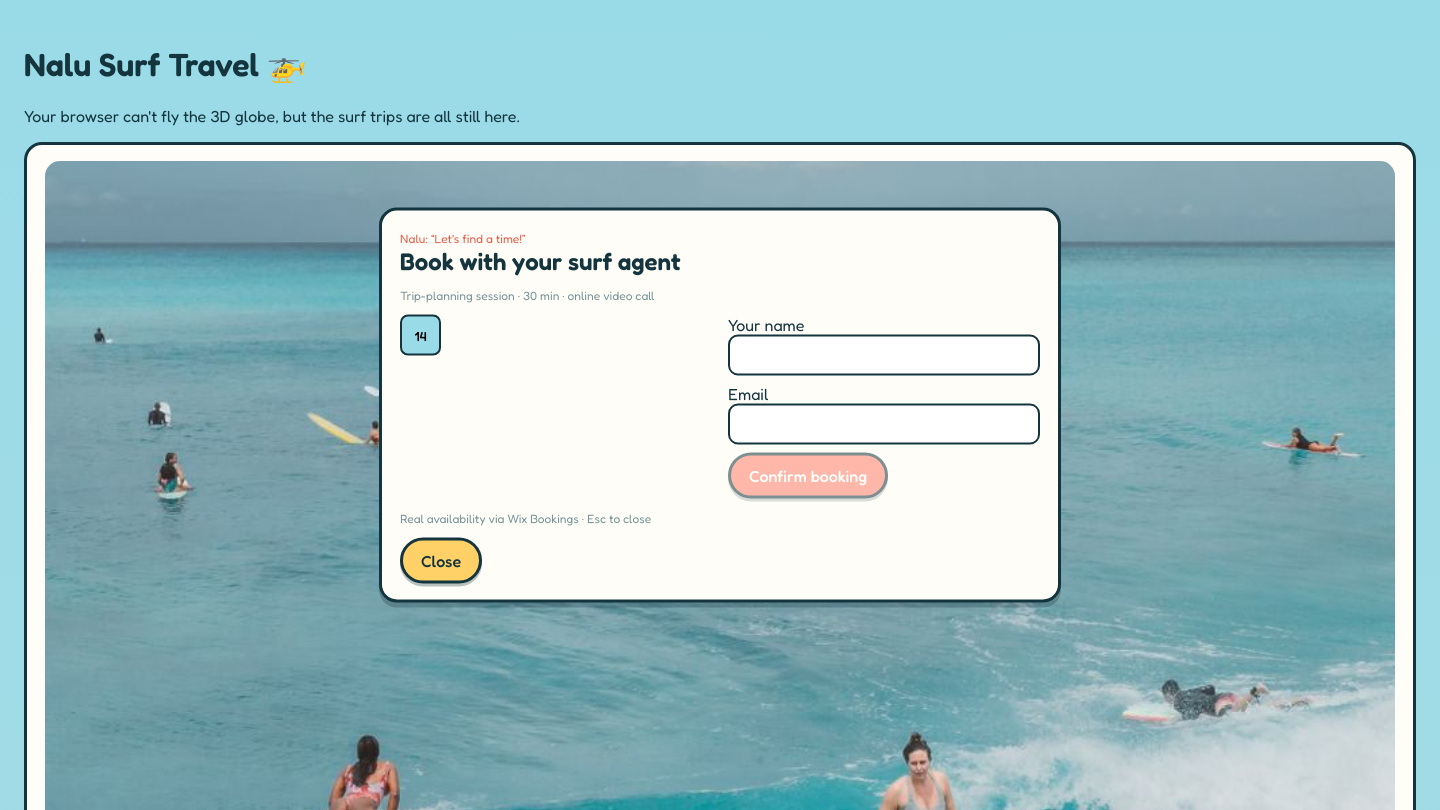
Scenario: happy path booking lands on the confirmation card, not a stuck calendar
Click the button "14" at (421, 335), box x1=400 y1=314 x2=441 y2=356
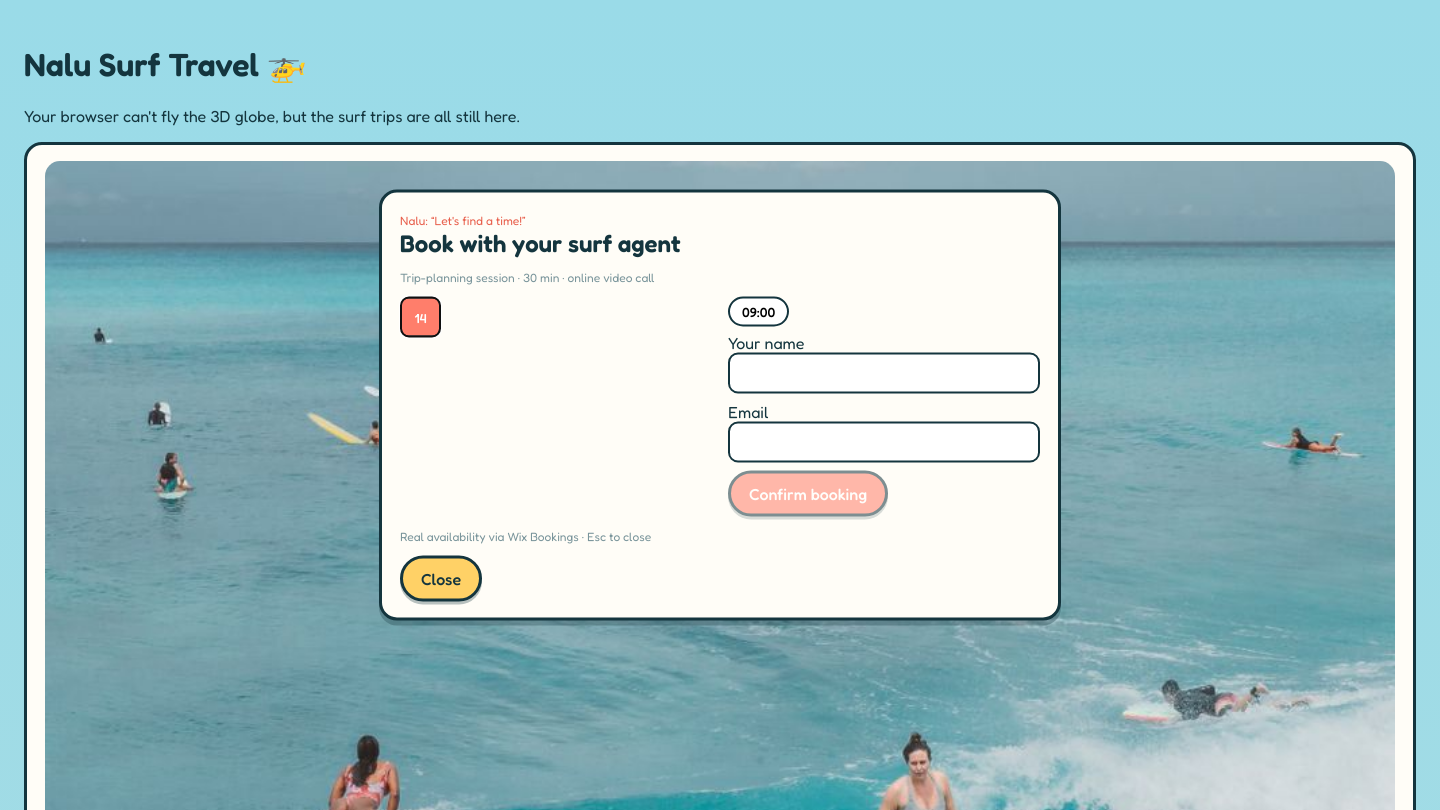
Click the button "09:00" at (759, 312), box x1=728 y1=296 x2=789 y2=326
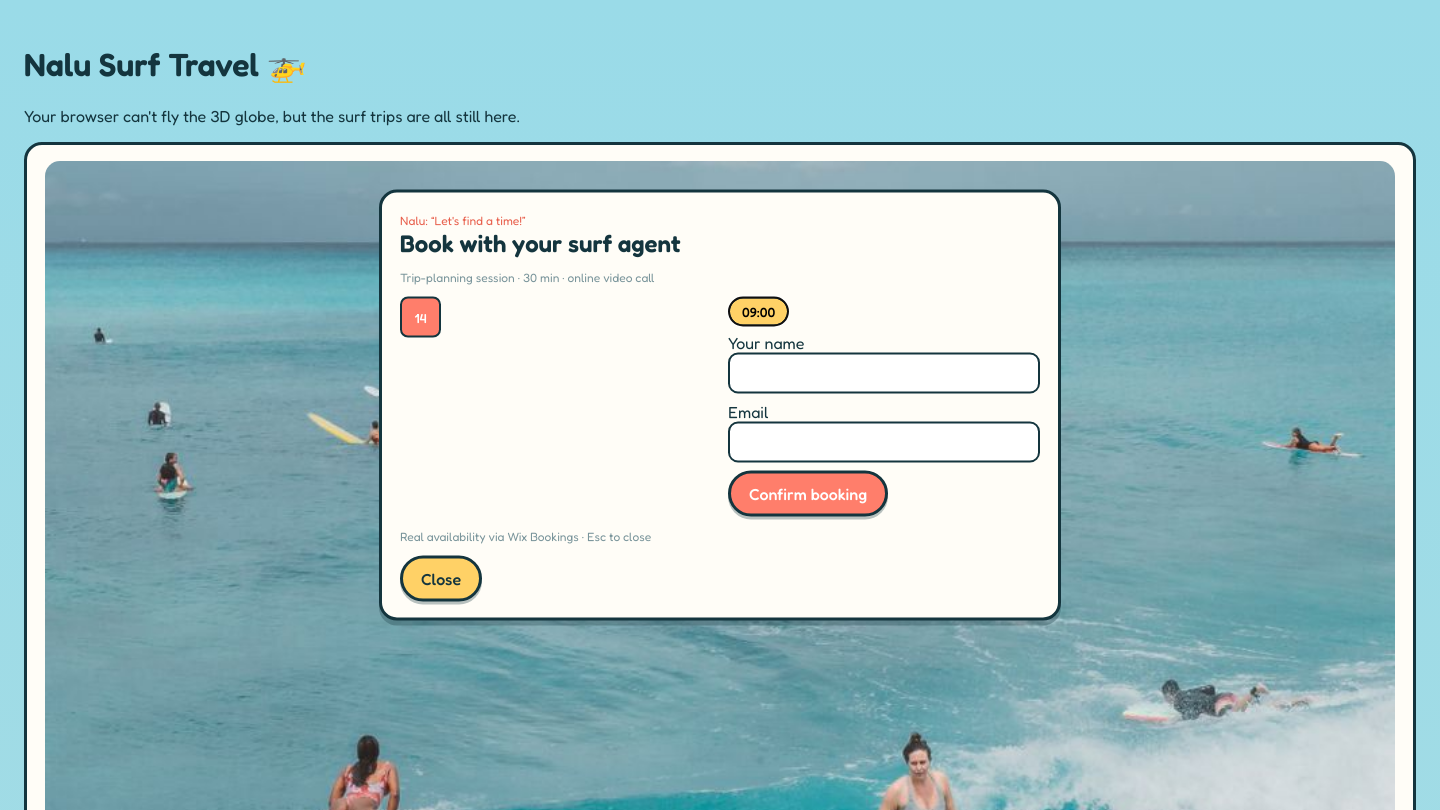
Type "Kai" into the field labelled "Your name" at (884, 373), box x1=728 y1=352 x2=1040 y2=394
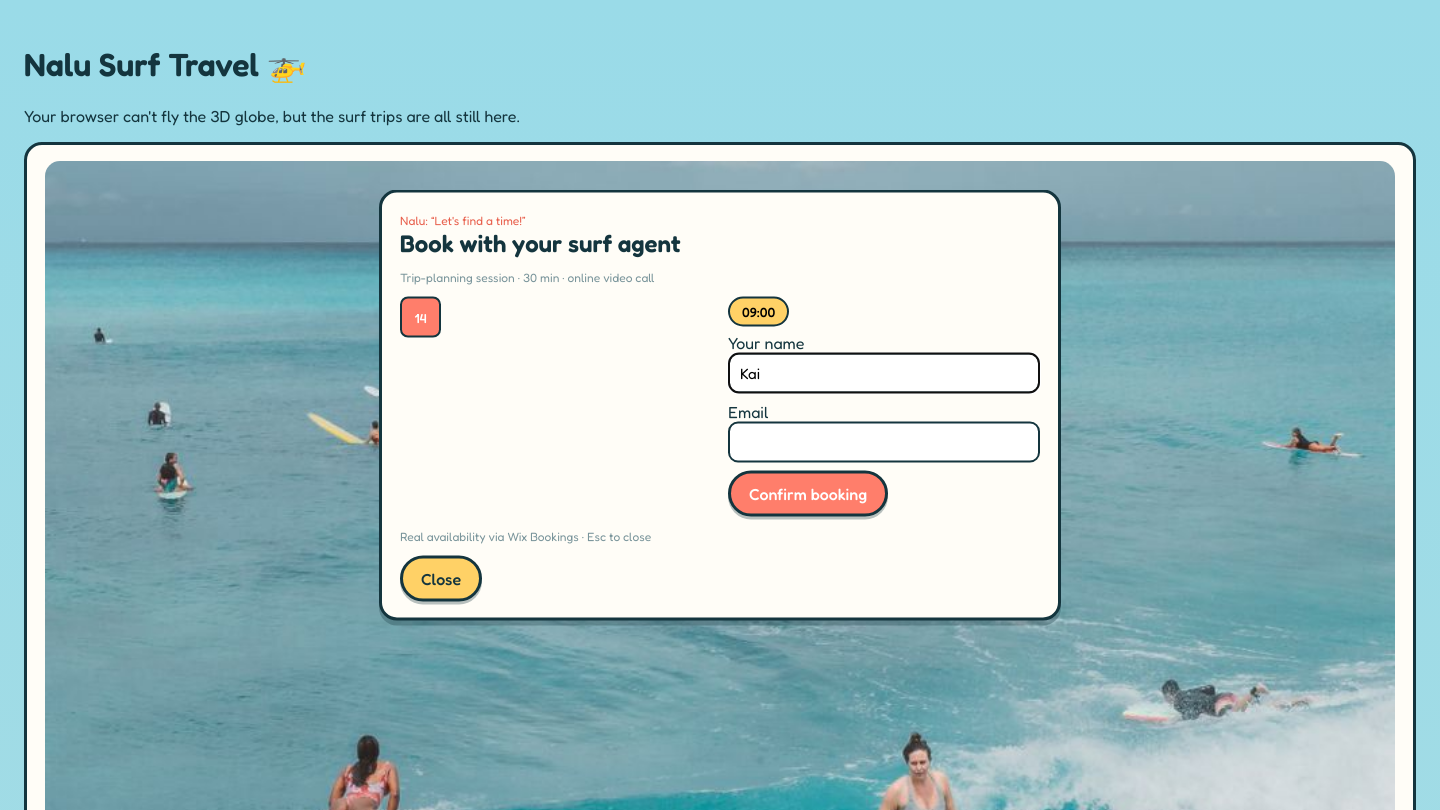
Type "kai@surf.com" into the field labelled "Email" at (884, 442), box x1=728 y1=422 x2=1040 y2=462
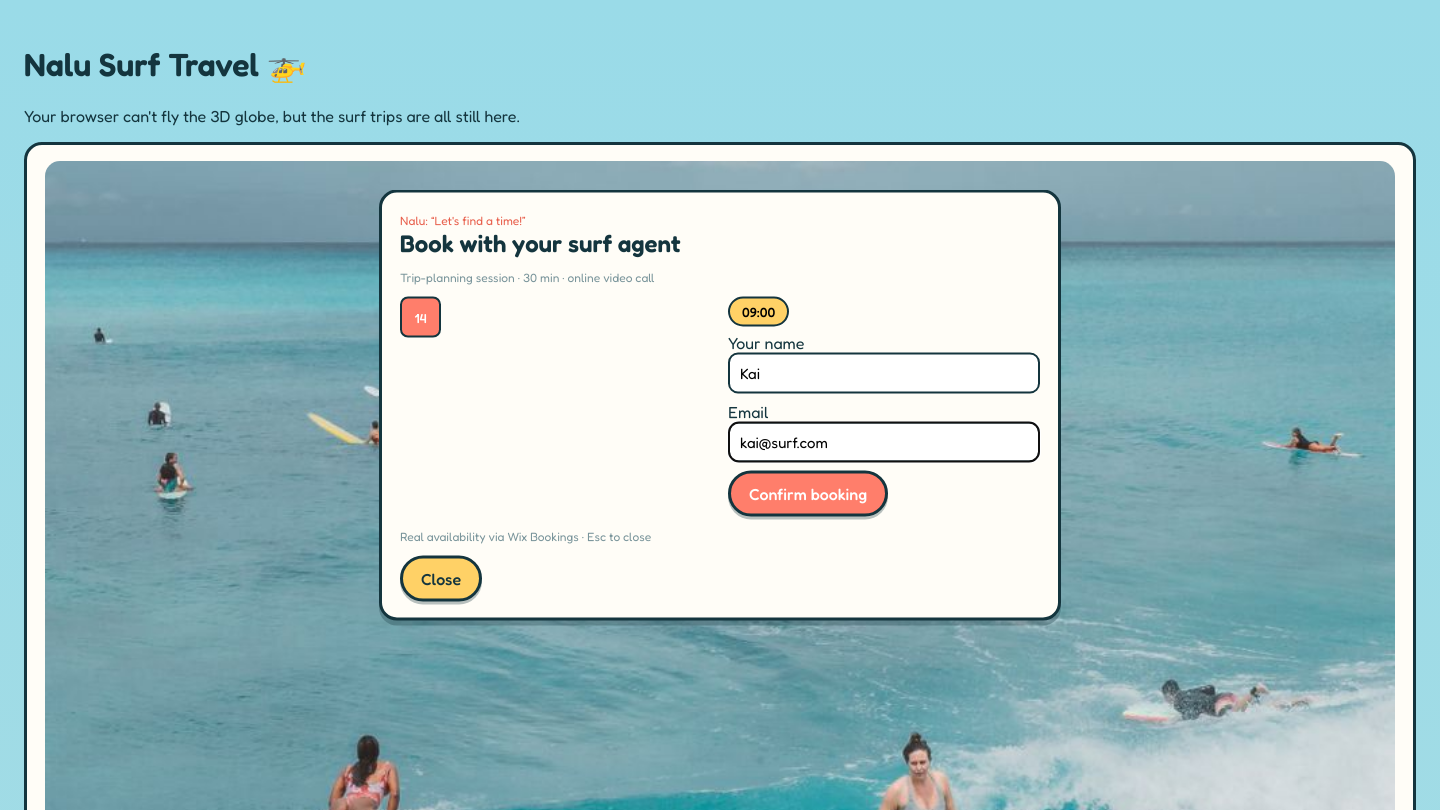
Click the button "Confirm booking" at (808, 494), box x1=728 y1=470 x2=888 y2=516
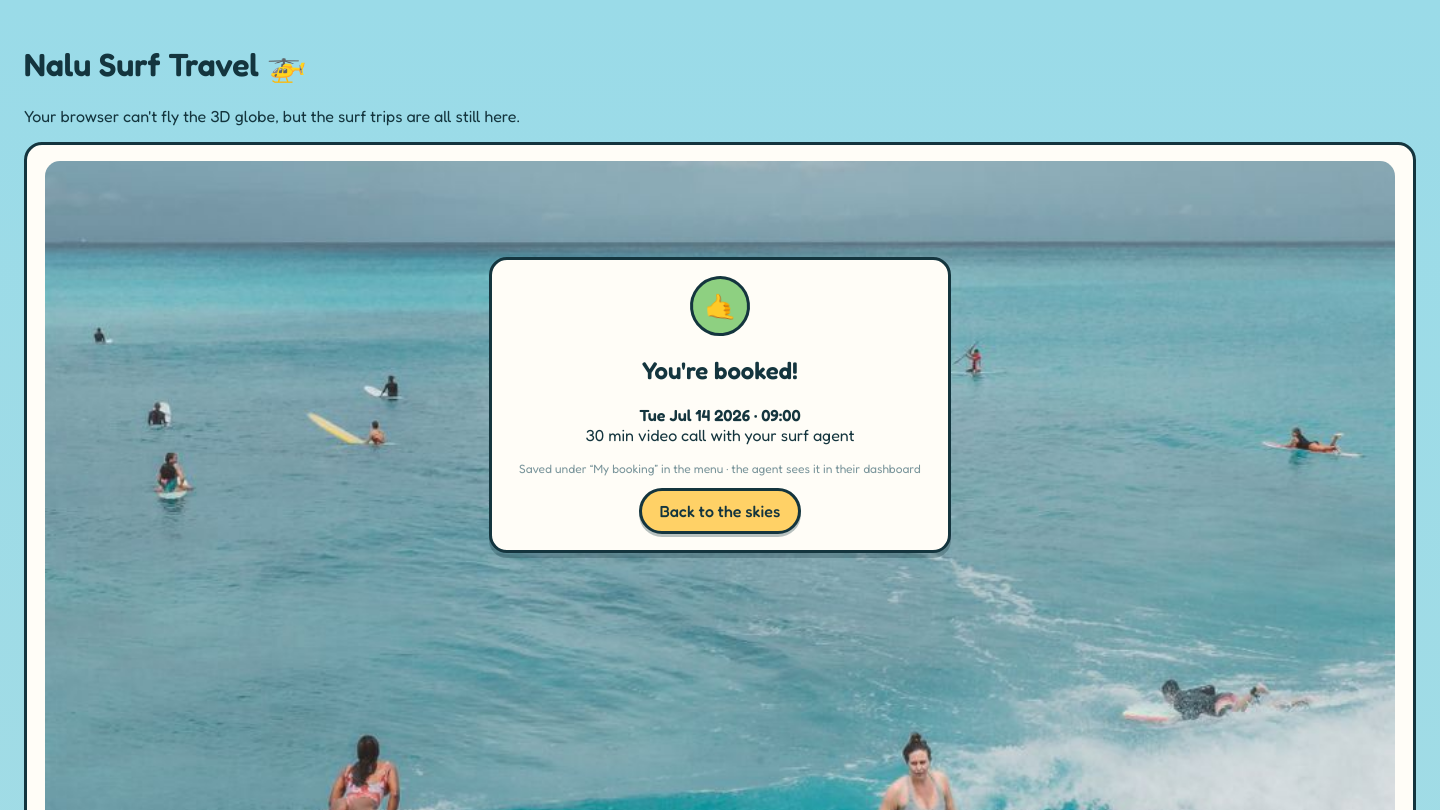
Check: the heading "You're booked!" is shown, box x1=642 y1=356 x2=798 y2=385
Check: the heading "Book with your surf agent" is gone
